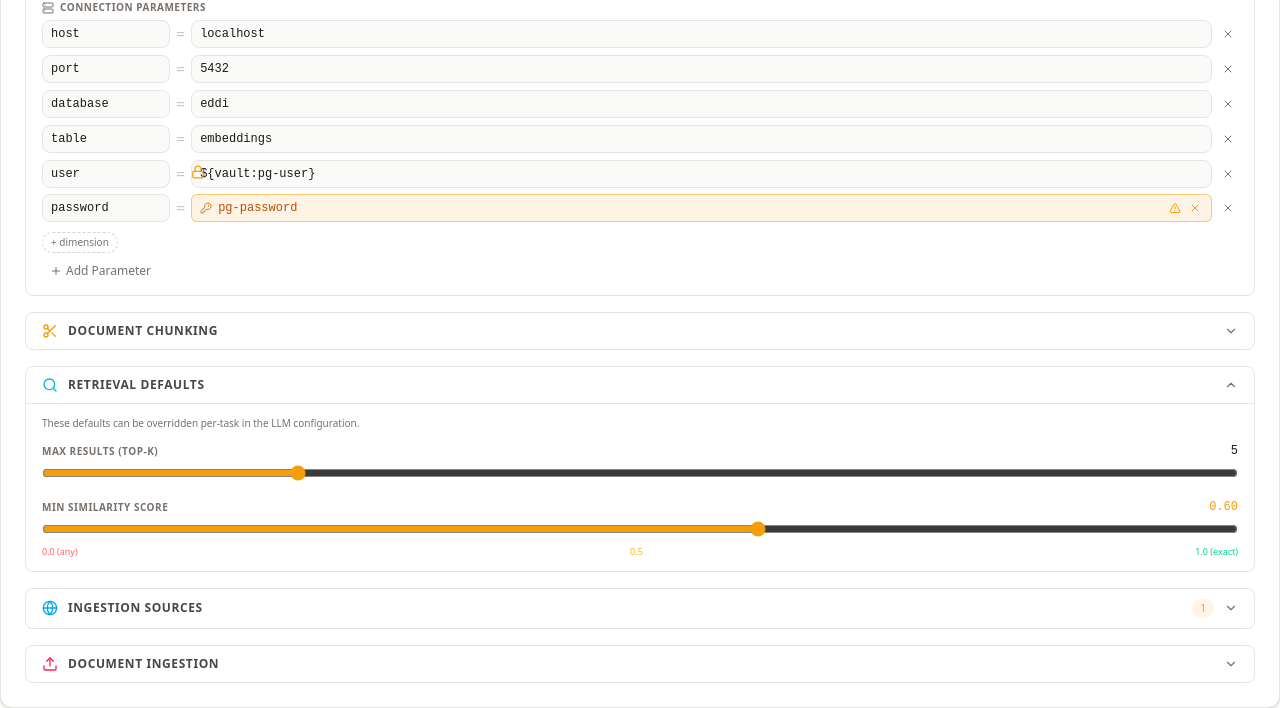
RAG ingestion sources › populates the crawl fields from the saved source
The image size is (1280, 708).
(page scrolled)
Step 1. Click the button "Ingestion Sources 1" → (135, 608), box [26,588,1254,628]
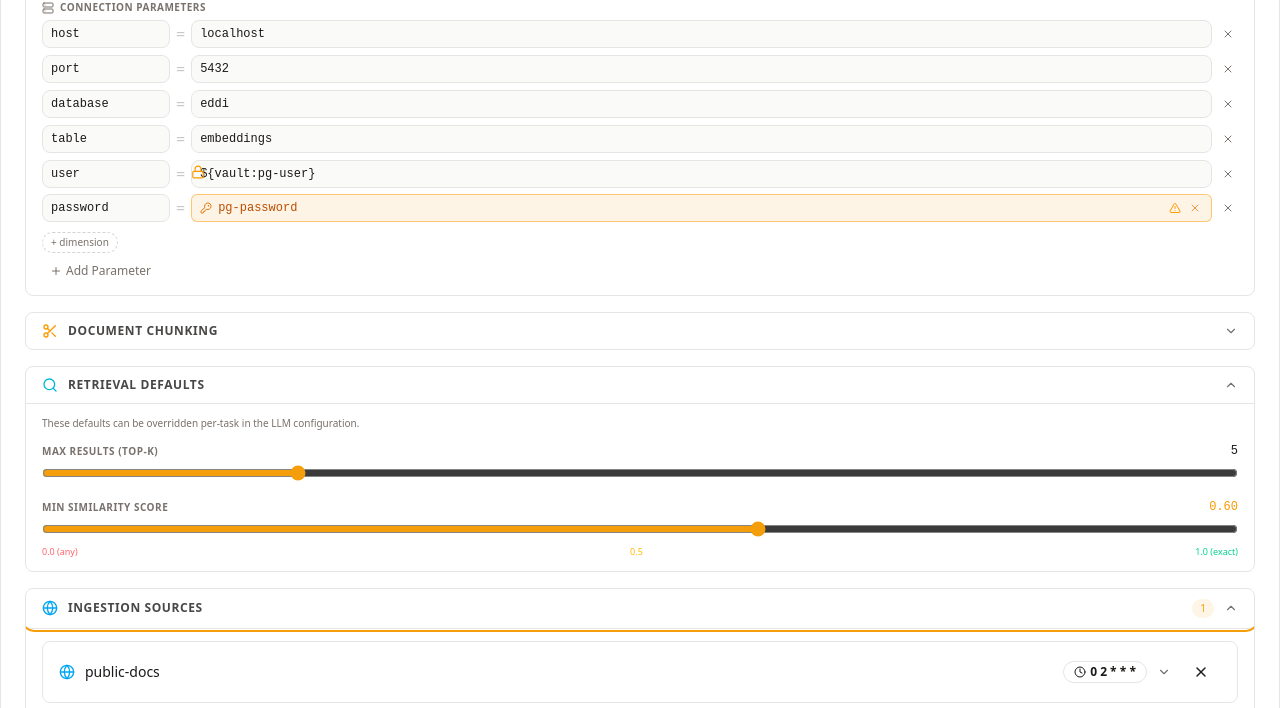
Expected: the element with test id "ingestion-source-0" is shown, [42,640,1238,702]
Step 2. Click the button with test id "ingestion-source-0-toggle" → (122, 671), box [59,660,1171,682]
(page scrolled)
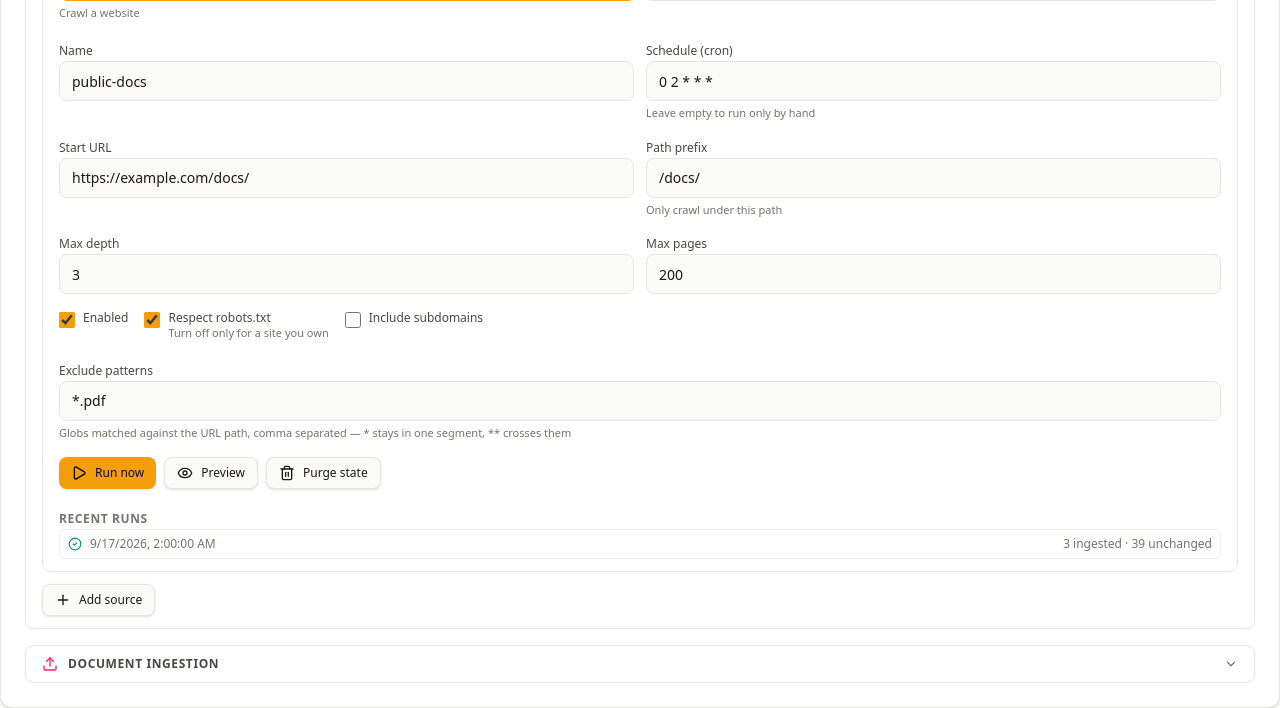
Expected: the field with test id "ingestion-source-0-start-url" holds "https://example.com/docs/", [59,158,634,198]
Expected: the field with test id "ingestion-source-0-path-prefix" holds "/docs/", [646,158,1221,198]
Expected: the number field with test id "ingestion-source-0-max-pages" holds "200", [646,254,1221,294]
